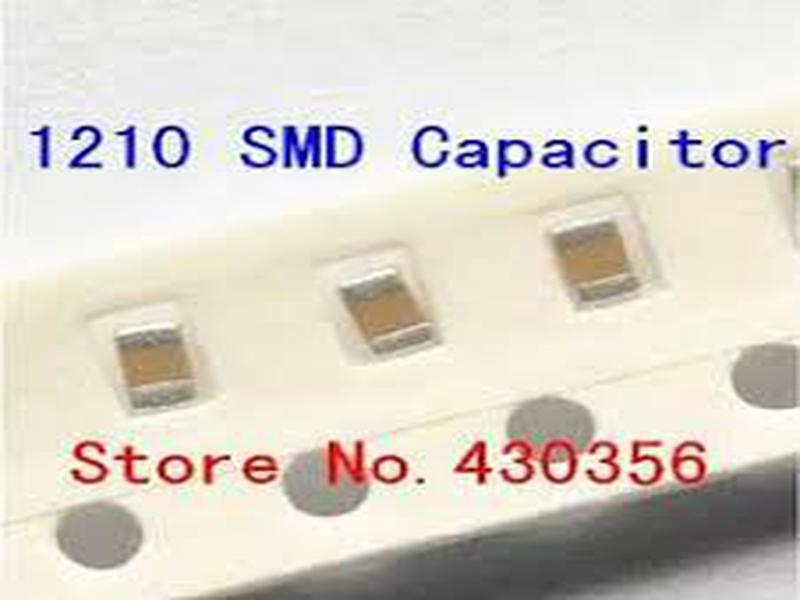SMD capacitor: (337, 266, 431, 358), (112, 314, 199, 408), (548, 215, 639, 298)
